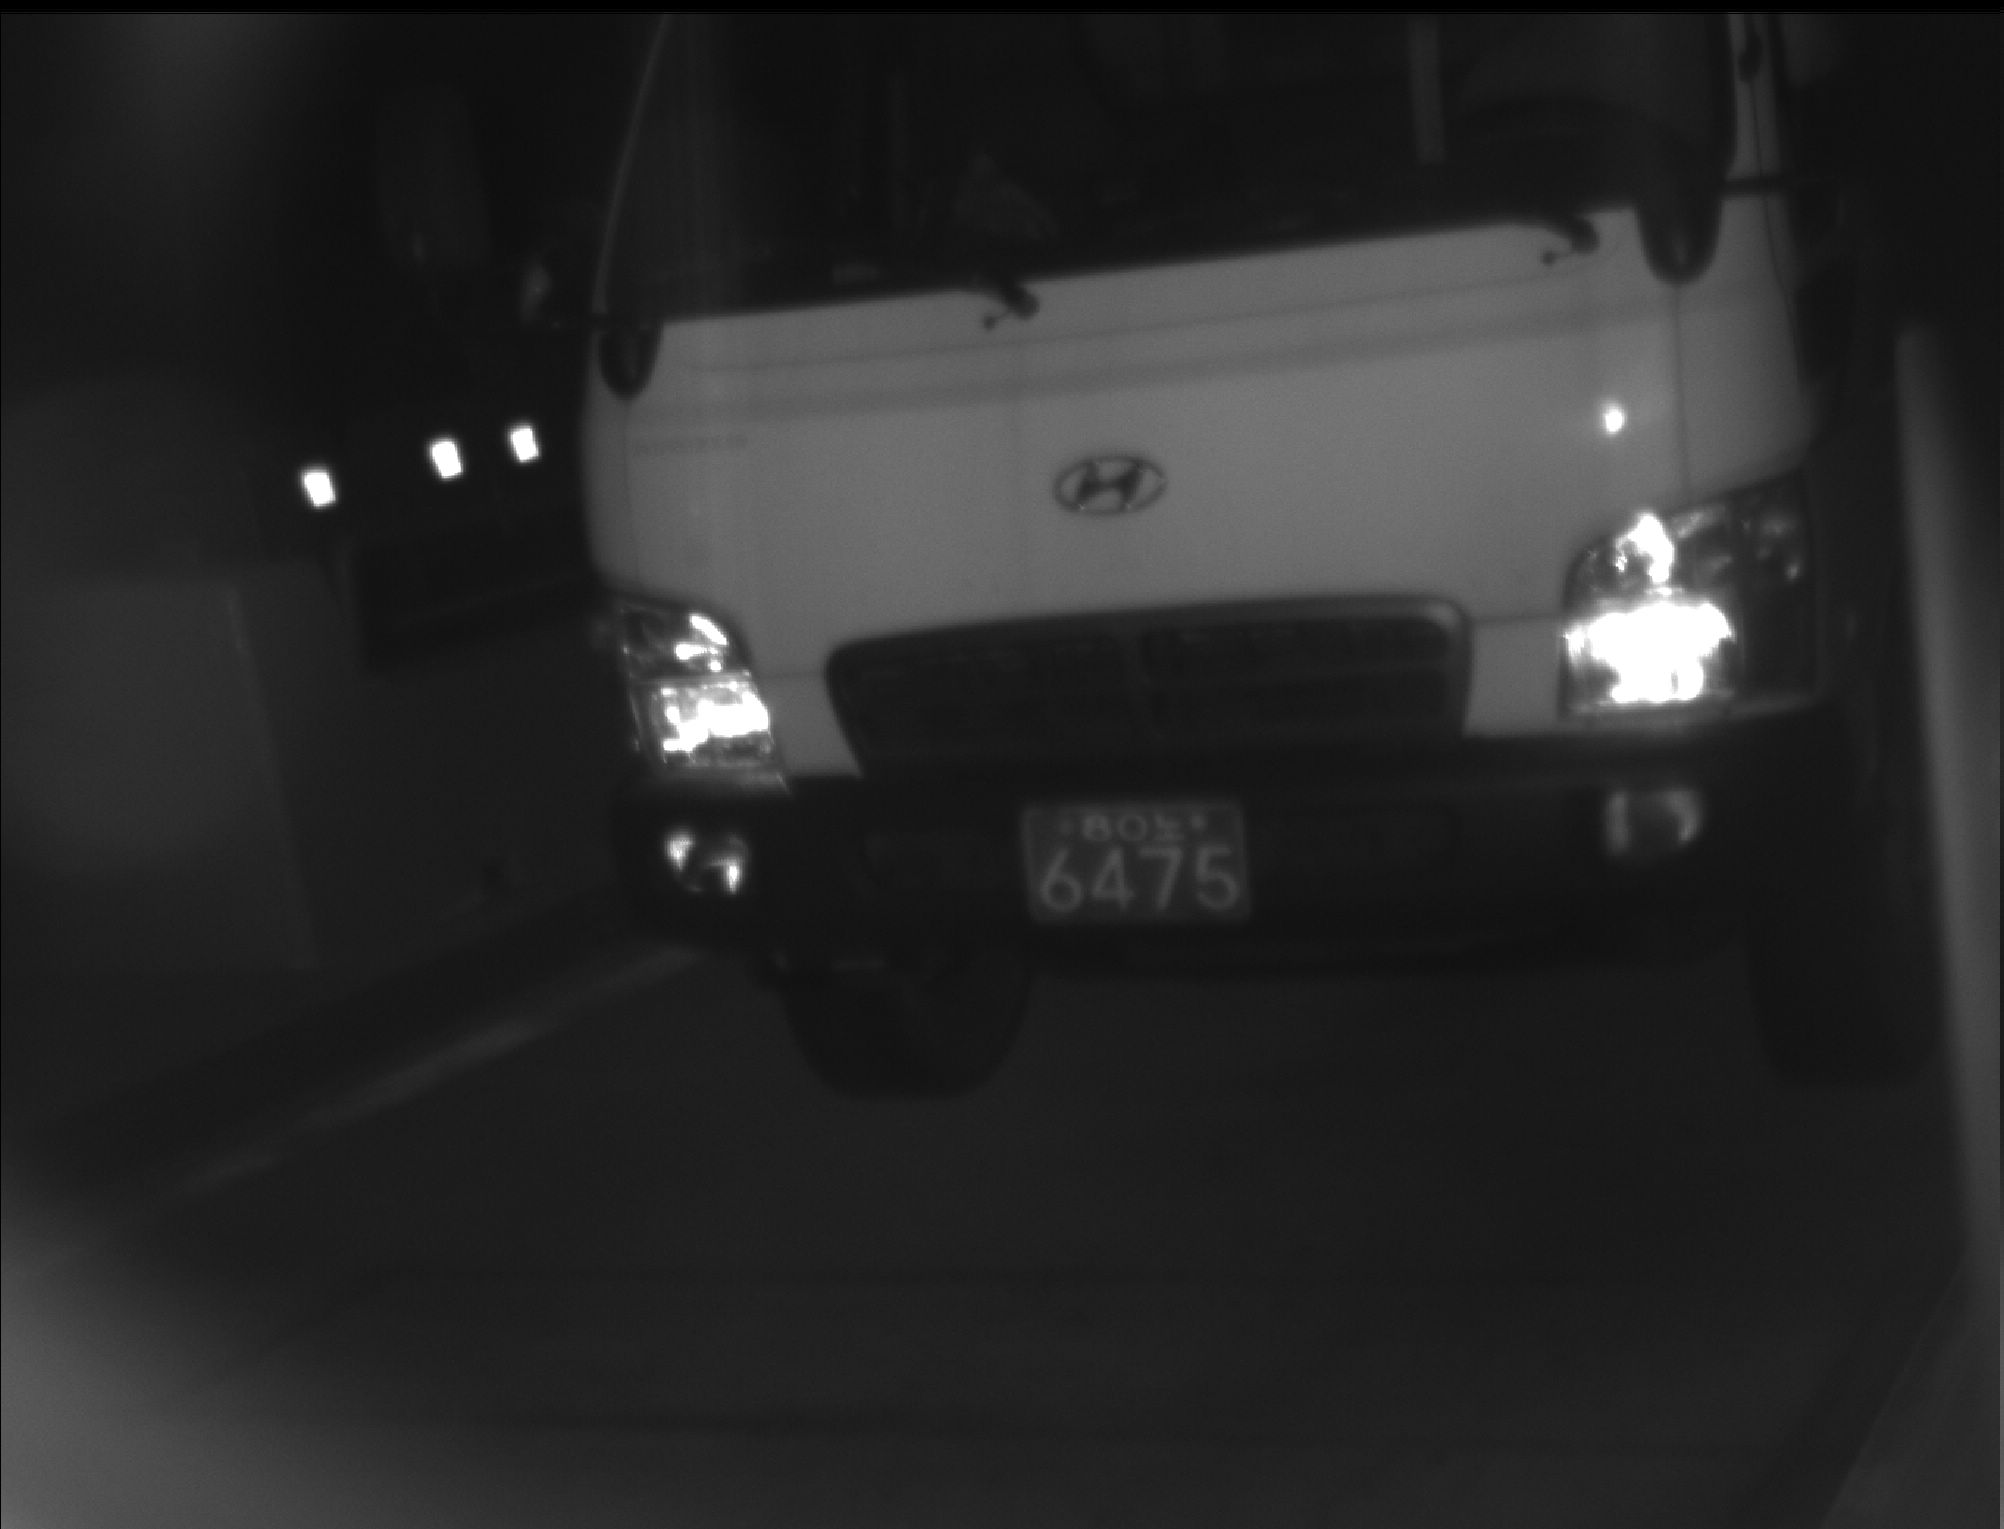car: (515, 1, 1998, 1084)
plate: (1013, 798, 1252, 927)
